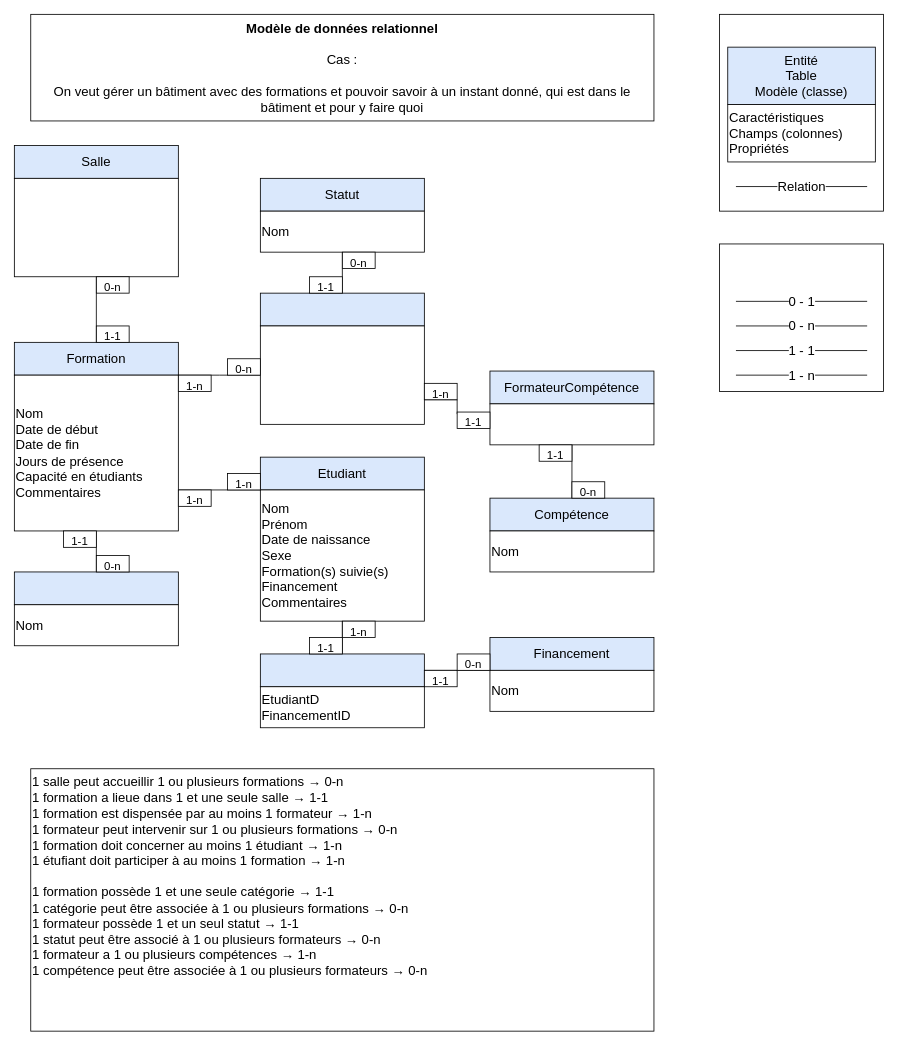
The diagram is 898 pixels wide and 1046 high, and some of its shapes have lost their labels. Each missing label, with the box of its shape:
Catégorie: (14, 571, 178, 605)
EtudiantFinancement: (260, 653, 424, 687)
Formateur: (260, 292, 424, 326)
FormateurID CompétenceID: (489, 403, 654, 445)
Légende: (719, 14, 884, 211)
Nom Etage Capacité d'accueil Commentaires: (14, 178, 178, 277)
Nom Prénom Statut Compétences Commentaires: (260, 325, 424, 424)
Types de relations (cardinalités): (719, 243, 884, 392)
